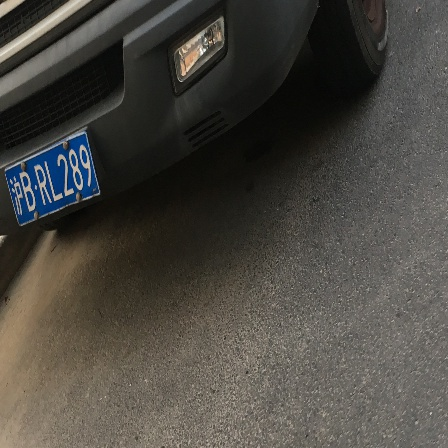plate: (5, 132, 99, 219)
